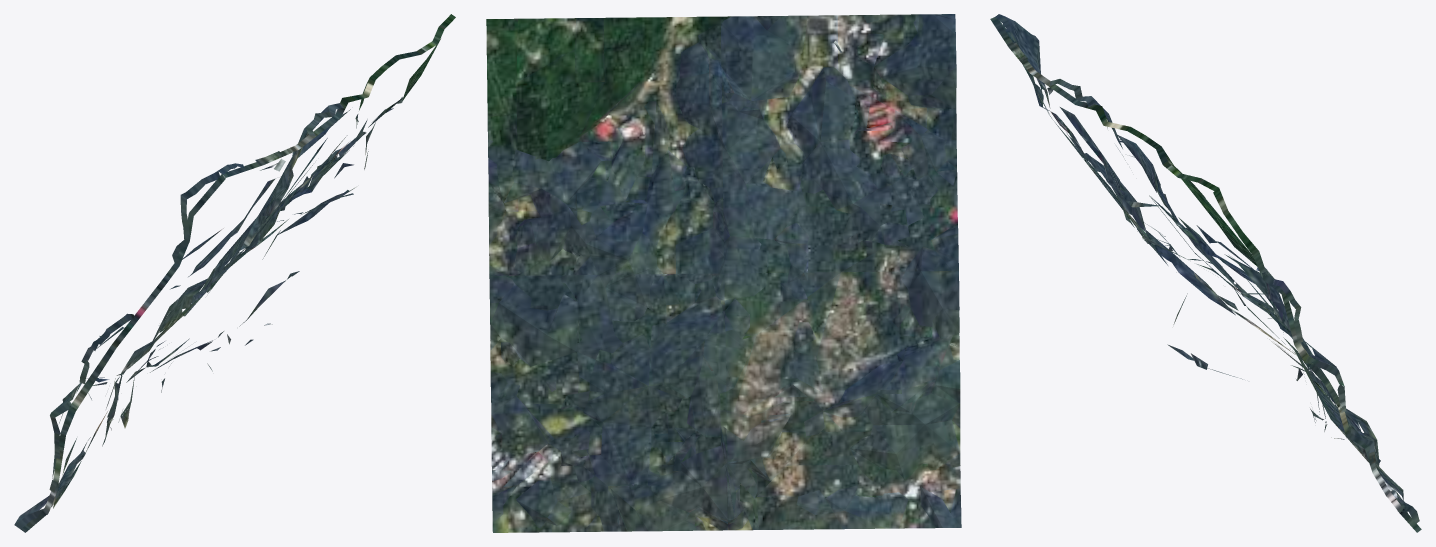
3 views of the same model, side by side, from view 1: azimuth 30°, elevation 25°; view 2: azimuth 150°, elevation 25°; view 3: azimuth 270°, elevation 25° (orthographic). The views are drawn at different scales.
Size of the model in its own units: 1275 by 1097 by 1063.
Materials: 2 (2 with a texture image).
